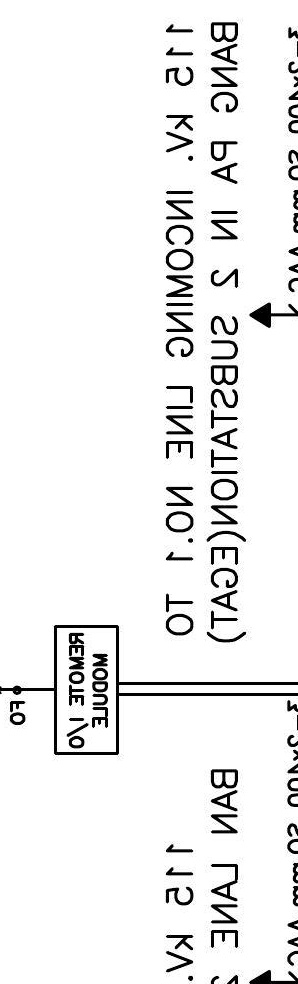remote_io_module: (54, 624, 120, 755)
